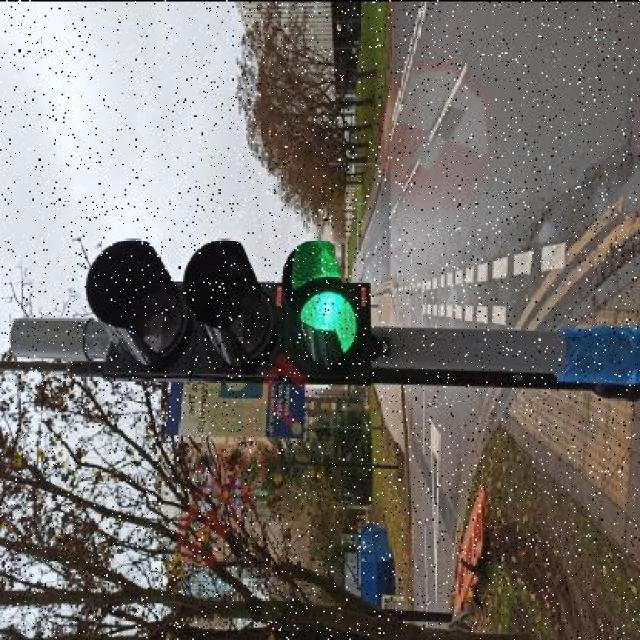green-light: (60, 230, 402, 374)
